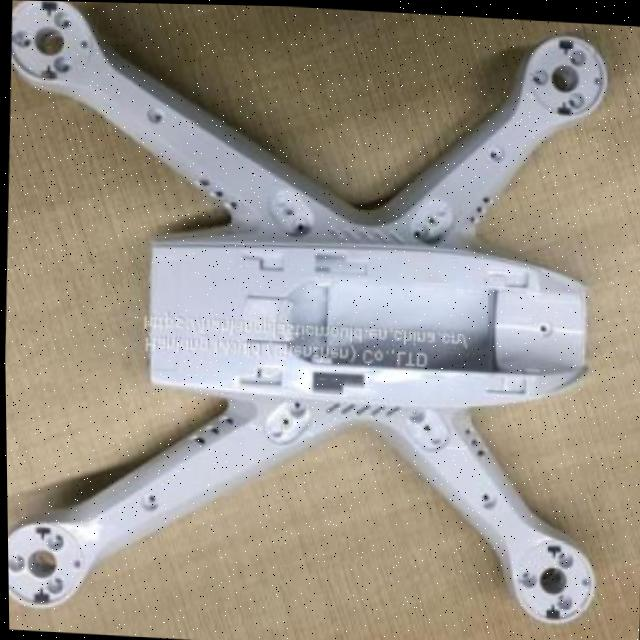drones: (0, 0, 633, 640)
